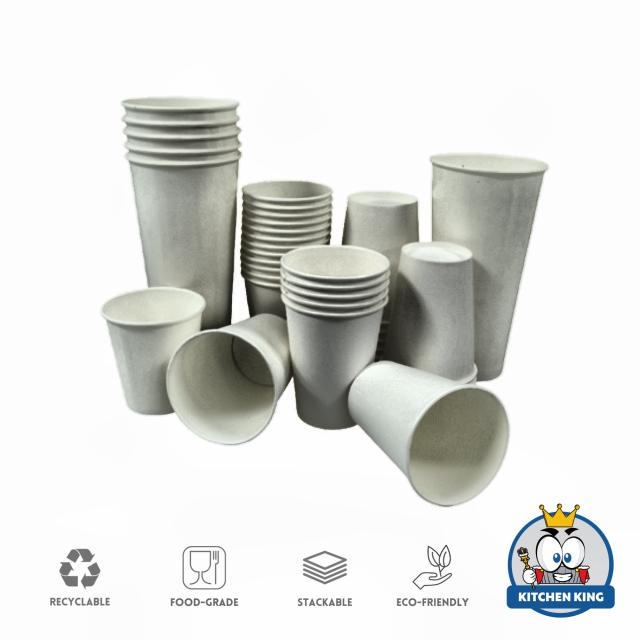Cup: (108, 86, 246, 340), (418, 130, 550, 390), (345, 350, 509, 512), (143, 286, 297, 450), (270, 244, 384, 445), (381, 225, 485, 426), (85, 263, 210, 426), (234, 158, 336, 351)
